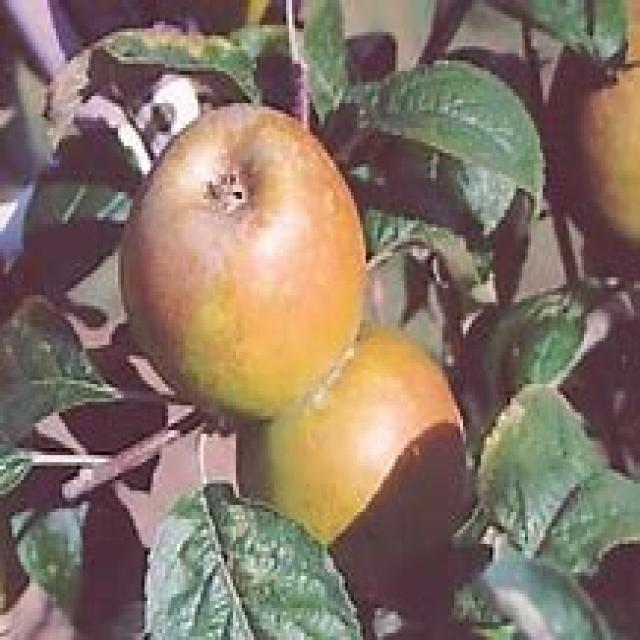apple: (120, 105, 370, 423)
